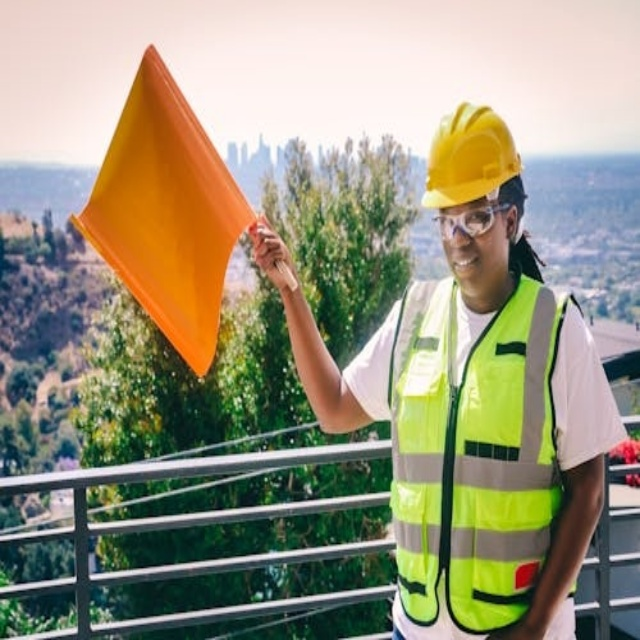Sin_gafas: (428, 198, 515, 249)
Sin_guantes: (246, 212, 306, 304)
Sin_mascara: (447, 251, 489, 288)
